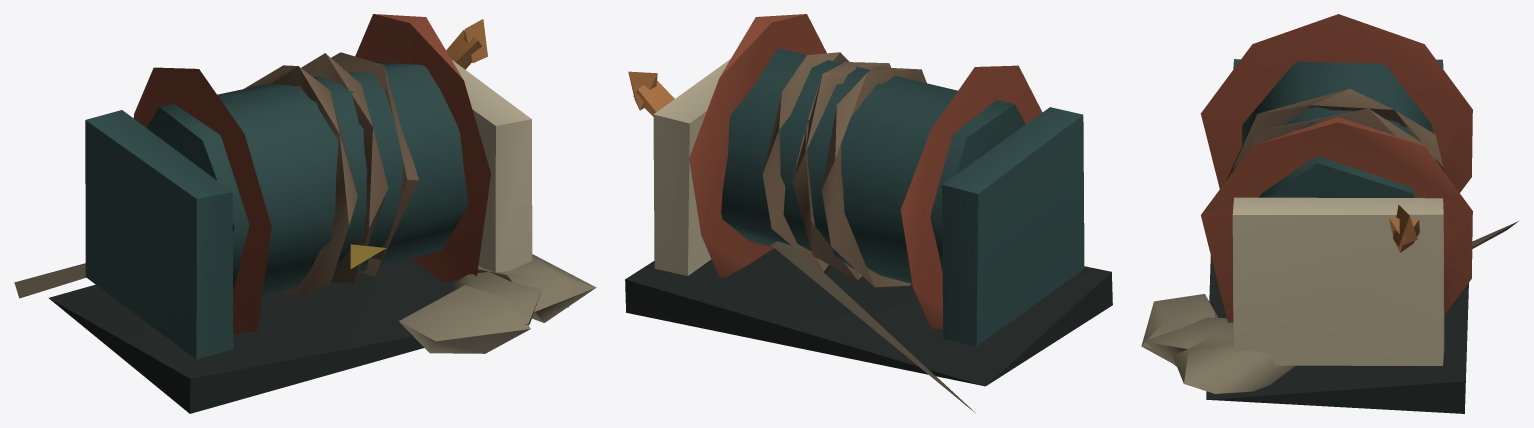
Rendered from winch_drum_b_lod2.glb.
3 renders of one model, left to right at view 1: azimuth 30°, elevation 25°; view 2: azimuth 150°, elevation 25°; view 3: azimuth 270°, elevation 25°, orthographic. The views are drawn at different scales.
Visible parts, largest first — view 1: Surface.001; view 2: Surface.001; view 3: Surface.001.
Part boxes in pixels (left/top/right/bottom): Surface.001: left=14, top=14, right=596, bottom=413; Surface.001: left=625, top=14, right=1112, bottom=412; Surface.001: left=1141, top=14, right=1518, bottom=413.
Size of the model in its own units: 2.07 by 1.33 by 1.73.
